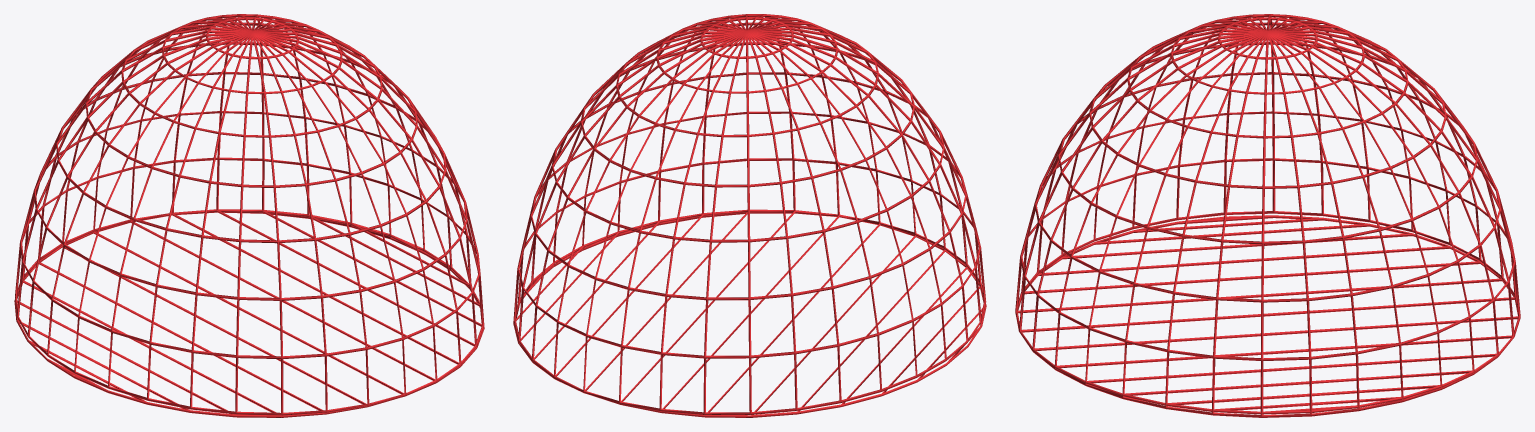
The model's file is redDOME_C3.glb.
3 renders of one model, left to right at view 1: azimuth 30°, elevation 25°; view 2: azimuth 150°, elevation 25°; view 3: azimuth 270°, elevation 25°, orthographic.
Visible parts, largest first — view 1: dome1_3; view 2: dome1_3; view 3: dome1_3.
Part boxes in pixels (x1,y1,x2,y2): dome1_3: [14, 14, 484, 417]; dome1_3: [513, 14, 986, 417]; dome1_3: [1015, 14, 1520, 417].
Size of the model in its own units: 3.38 by 2.31 by 3.65.
